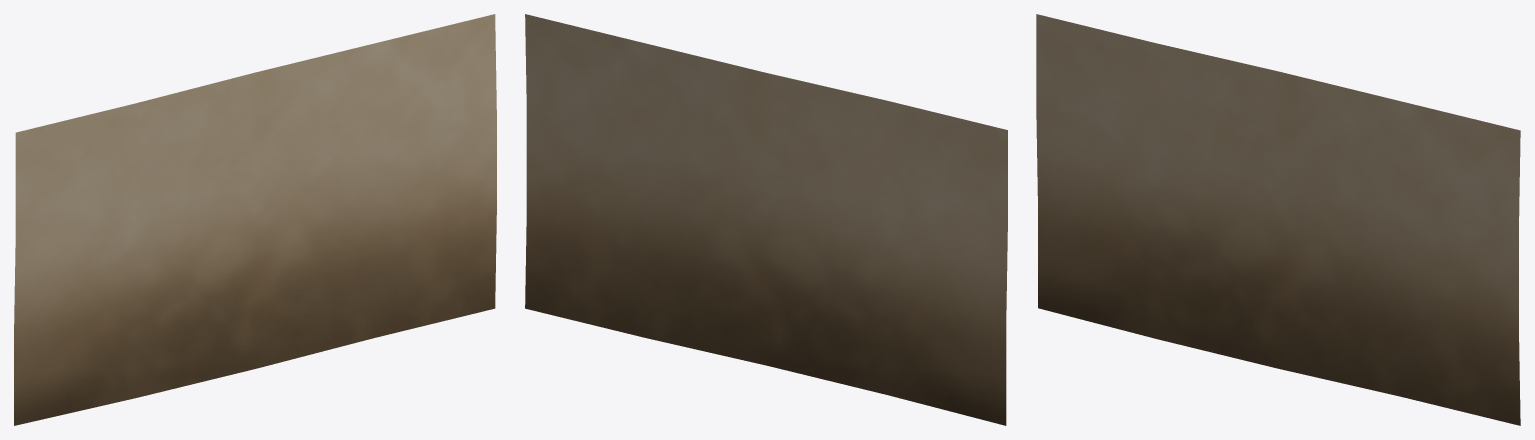
The model's file is WallF01.fbx.
3 renders of one model, left to right at view 1: azimuth 30°, elevation 25°; view 2: azimuth 150°, elevation 25°; view 3: azimuth 330°, elevation 25°, orthographic.
Parts seen in each view (by area): view 1: WallF01; view 2: WallF01; view 3: WallF01.
Boxes of the visible parts, box(x1,y1,x2,y2) form: WallF01: box(14, 14, 496, 425); WallF01: box(525, 14, 1007, 425); WallF01: box(1036, 14, 1520, 425).
Bounding box in the file's own units: 8.33 × 4.88 × 0.0583.
